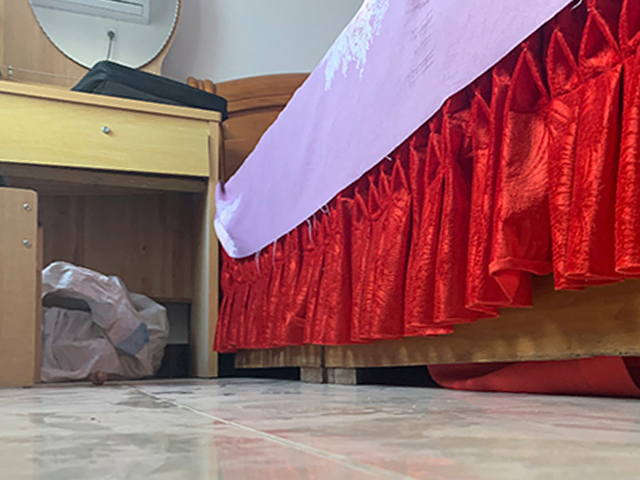bed: (185, 1, 640, 384)
stool: (1, 187, 43, 389)
table: (1, 80, 221, 382)
